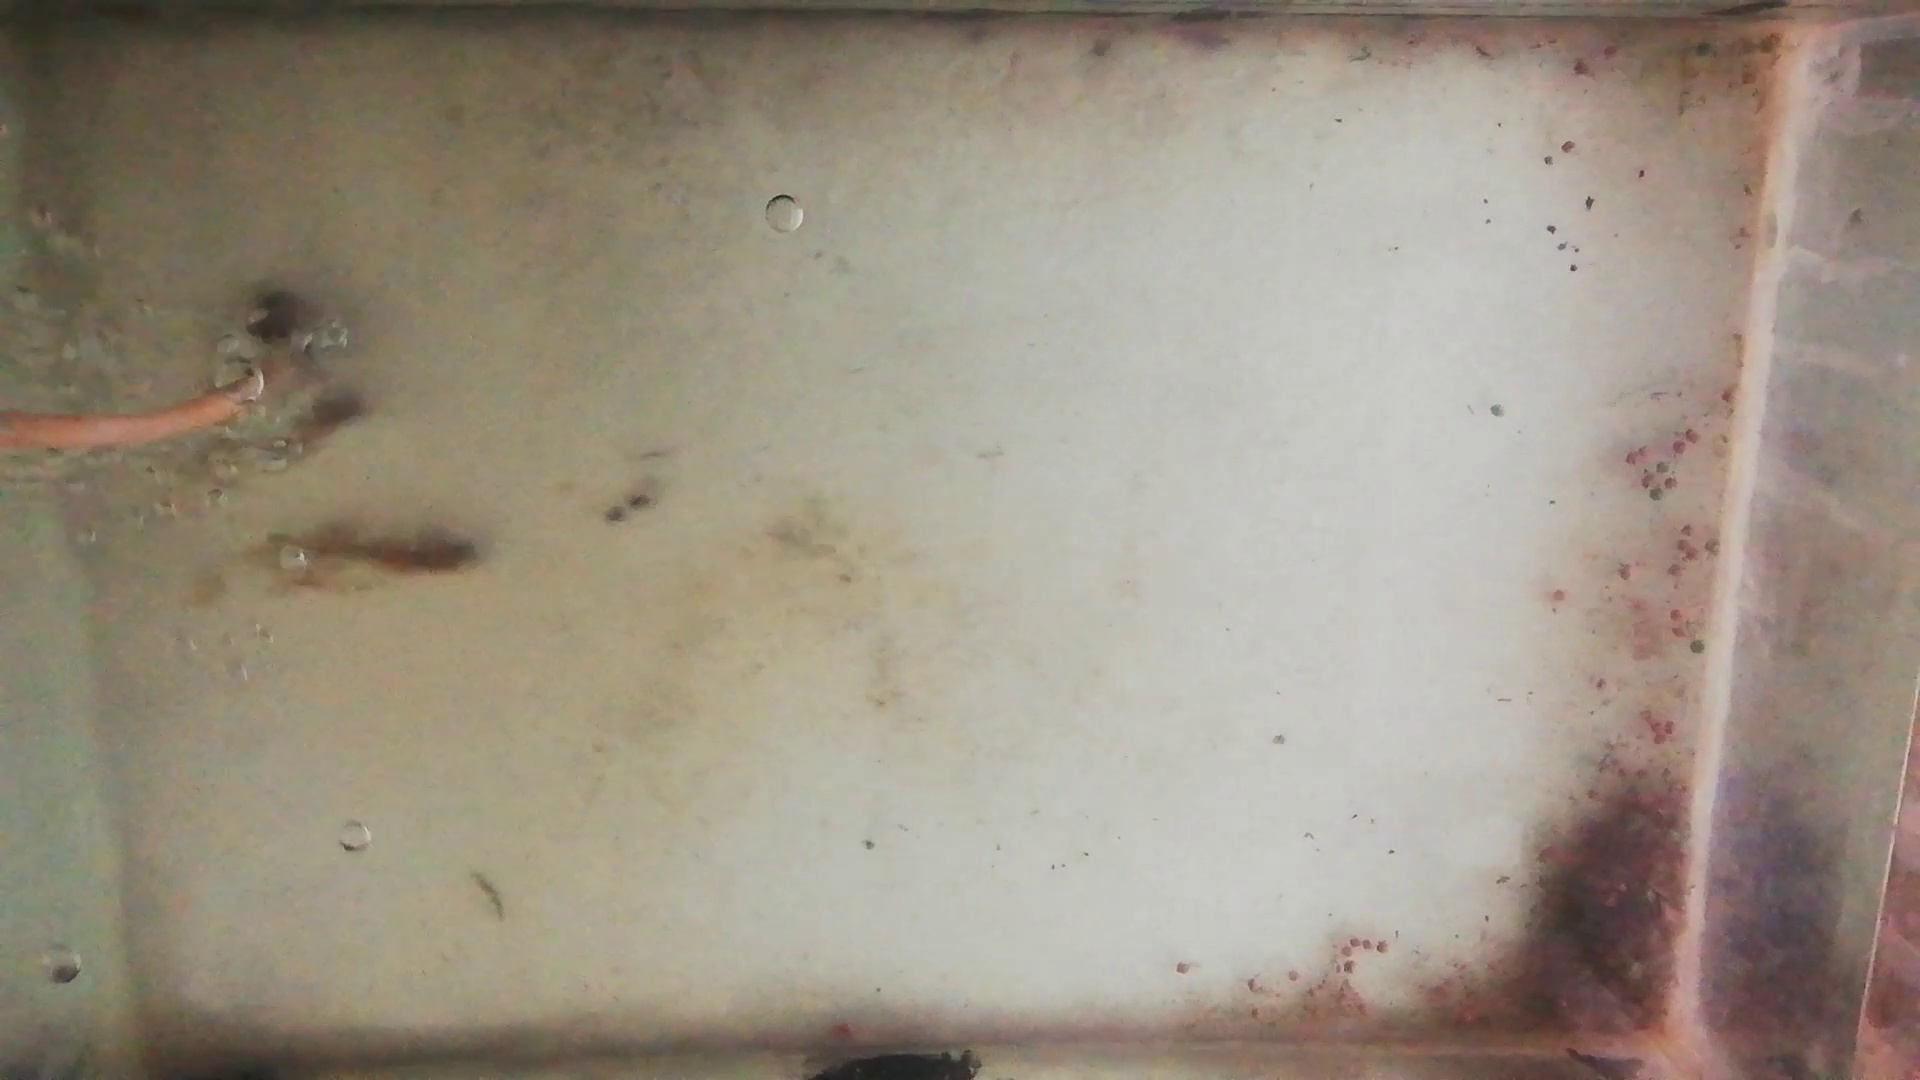fish: (245, 524, 487, 591), (190, 389, 375, 464)
